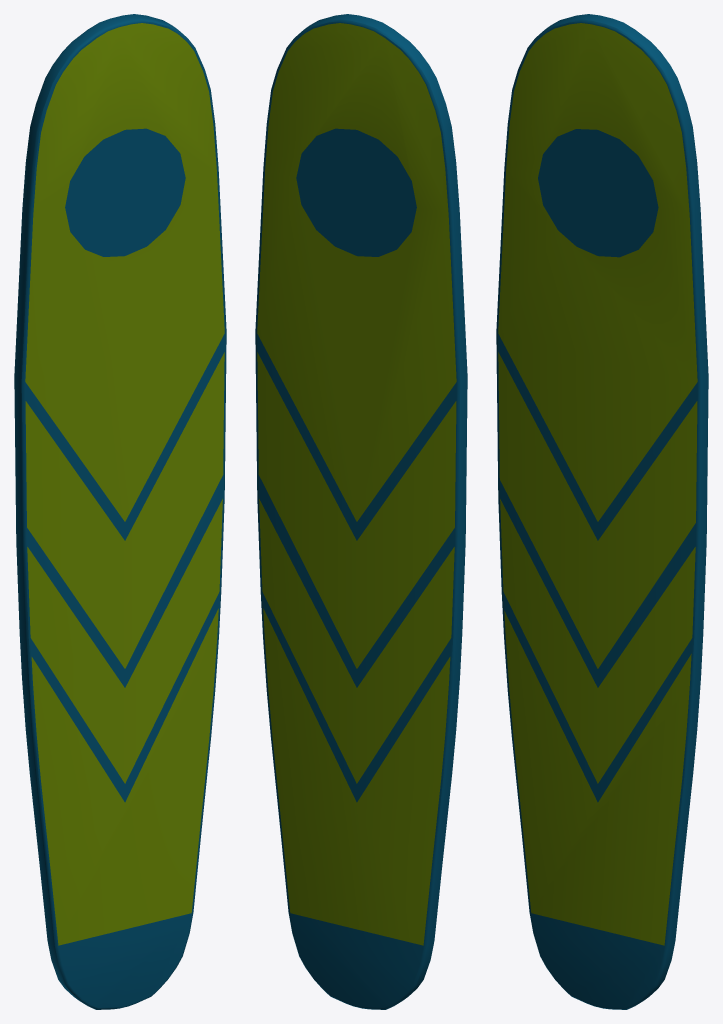
Rendered from Surfboard03.fbx.
3 views of the same model, side by side, from view 1: azimuth 30°, elevation 25°; view 2: azimuth 150°, elevation 25°; view 3: azimuth 330°, elevation 25° (orthographic).
Parts seen in each view (by area): view 1: Surfboard03; view 2: Surfboard03; view 3: Surfboard03.
Boxes of the visible parts, x1,y1,x2,y2 form: Surfboard03: (14, 14, 226, 1009); Surfboard03: (255, 14, 467, 1009); Surfboard03: (496, 14, 708, 1009).
Bounding box in the file's own units: 43.24 × 198 × 3.34.
